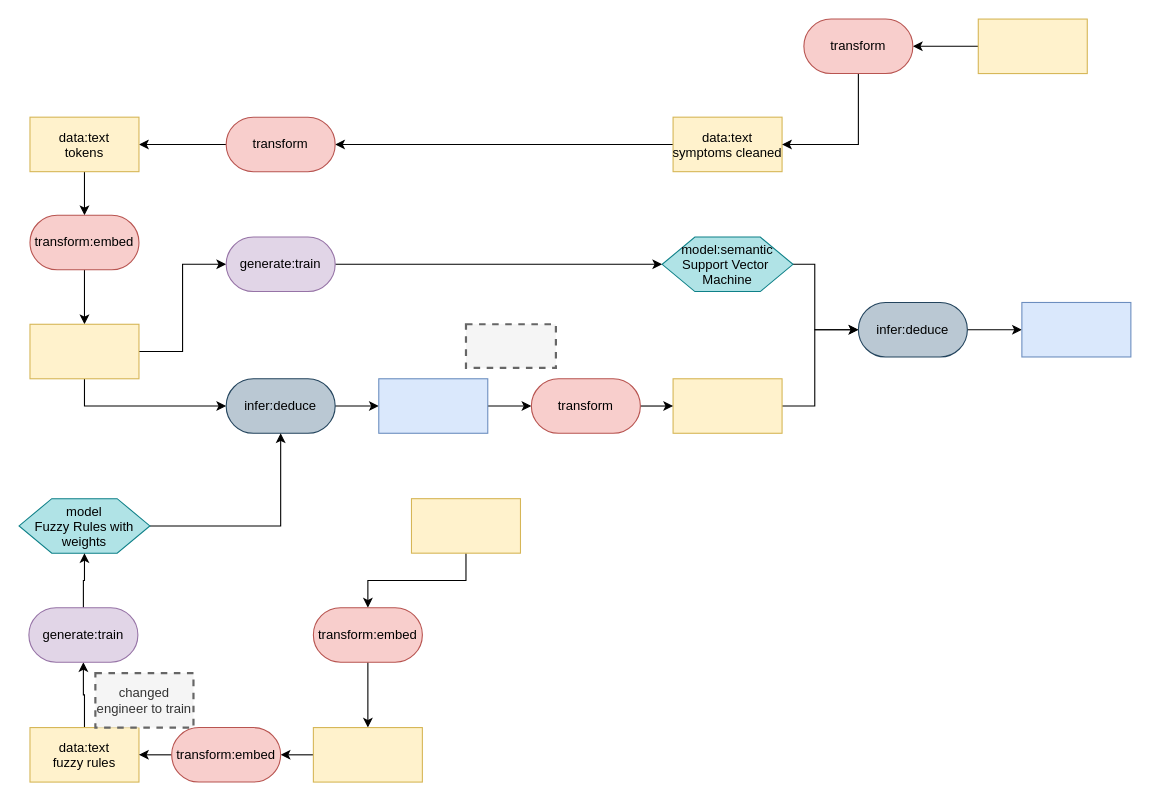
Image size: 1153x801. Some labels were removed from this diagram. Each missing label, with the centre of its shape:
"added symbol & transform" belongs at point (510, 345).
"data possible diagnosis with likelihood" belongs at point (727, 405).
"data:text feature vectors symptoms" belongs at point (84, 351).
"data:text medical knowledge" belongs at point (465, 525).
"data:text structured representation" belongs at point (367, 754).
"data:text symptoms" belongs at point (1032, 46).
"symbol" belongs at point (433, 405).
"symbol:text possible diagnosis ranked by likelihood" belongs at point (1076, 329).
